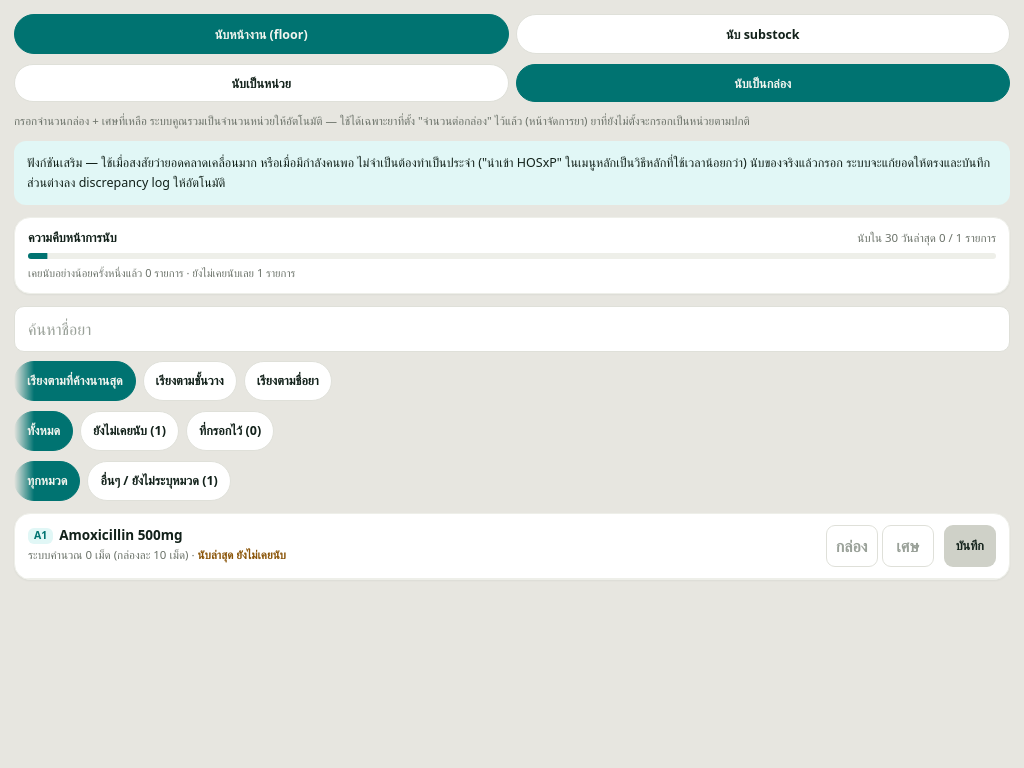
Test: CountScreen — box-counting regression › derives a correct กล่อง+เศษ breakdown from an existing unit-mode total when switching into box mode
Click the button "นับเป็นหน่วย". click: (261, 83)
box: x1=14 y1=64 x2=508 y2=102
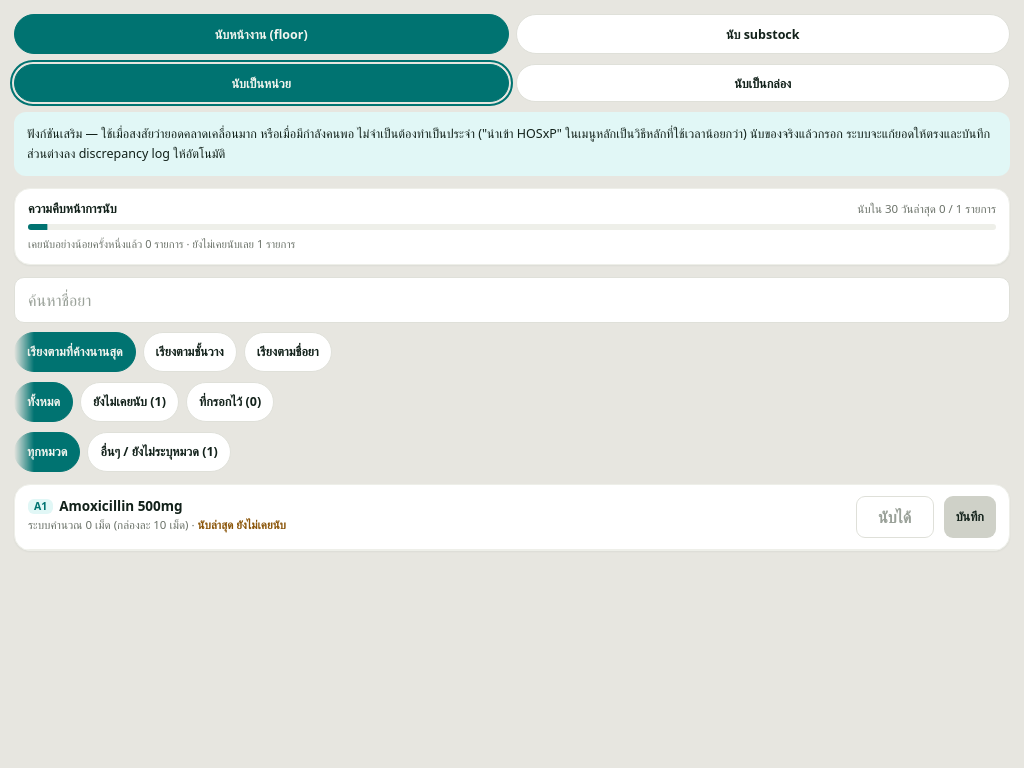
Type "37" into the field with placeholder "นับได้". click: (895, 516)
box: x1=856 y1=496 x2=934 y2=538
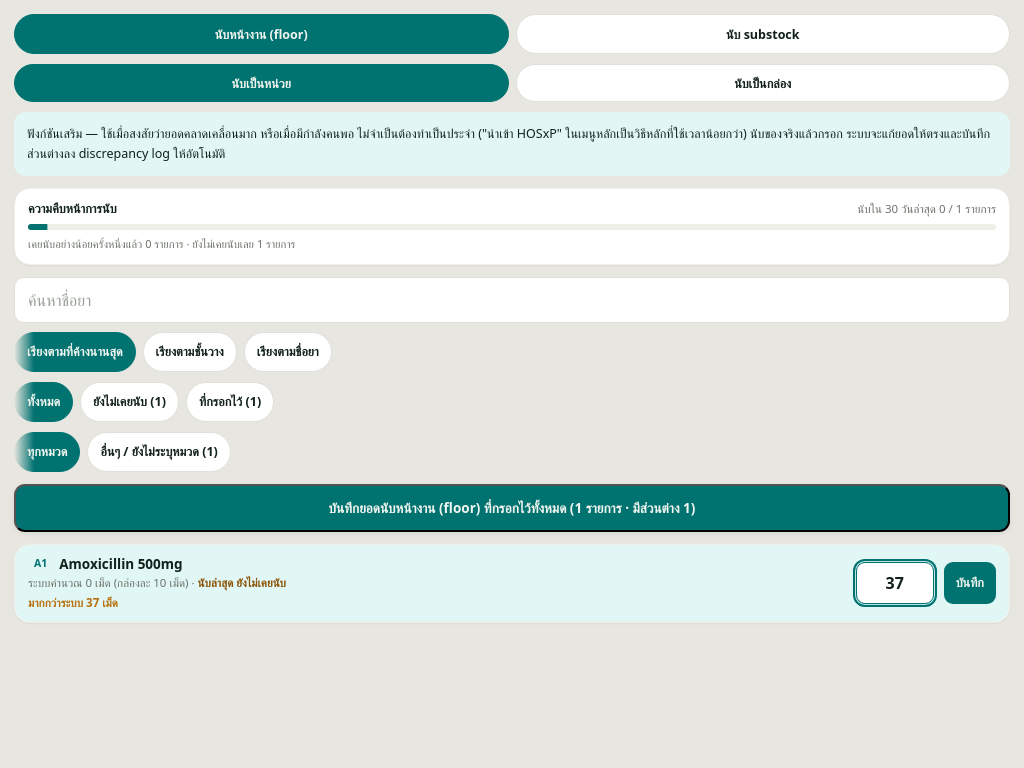
Click the button "นับเป็นกล่อง". click: (763, 83)
box: x1=516 y1=64 x2=1010 y2=102
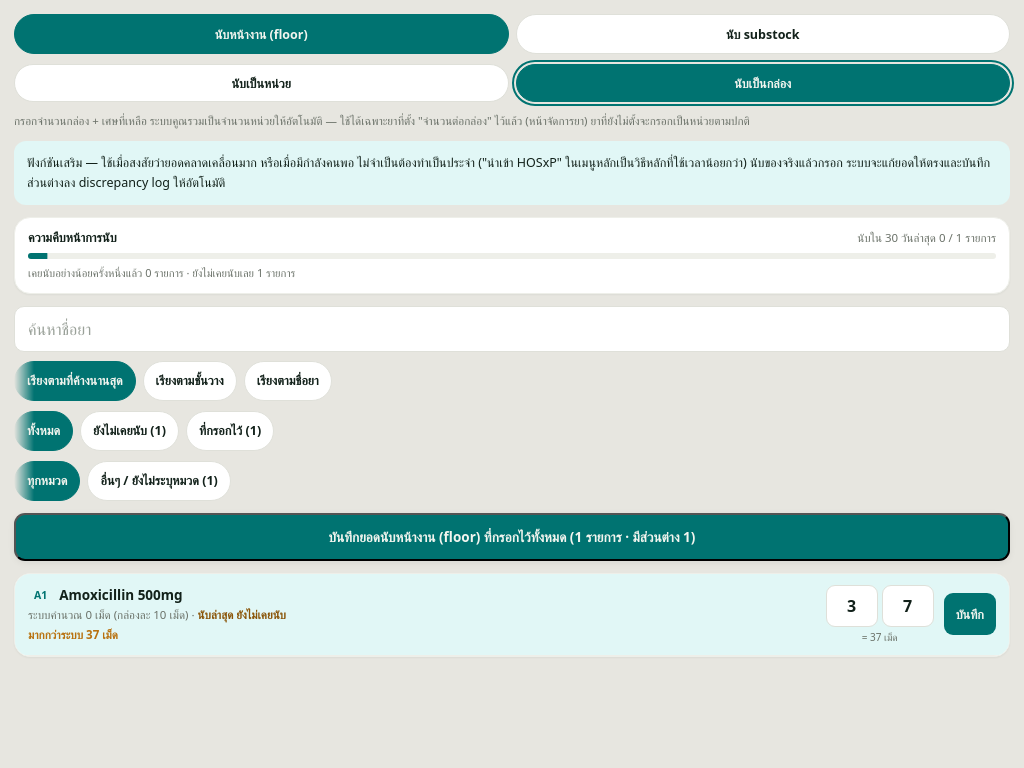
Check: the text "= 37 เม็ด" is shown, box x1=862 y1=630 x2=898 y2=644
